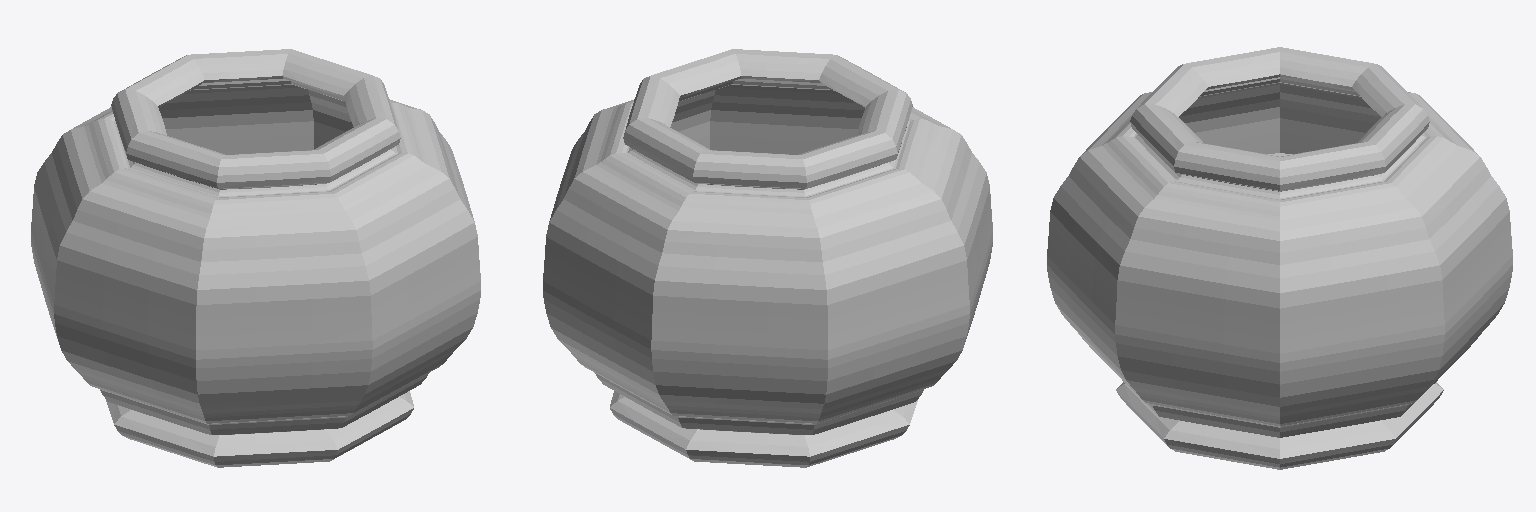
File: FishandbowlOBJSketchfab.obj
3 views of the same model, side by side, from view 1: azimuth 30°, elevation 25°; view 2: azimuth 150°, elevation 25°; view 3: azimuth 270°, elevation 25° (orthographic).
Parts seen in each view (by area): view 1: revolvedSurface1; view 2: revolvedSurface1; view 3: revolvedSurface1.
Part boxes in pixels (x1,y1,x2,y2): revolvedSurface1: (31,49,480,467); revolvedSurface1: (543,49,992,467); revolvedSurface1: (1047,47,1512,469).
Bounding box in the file's own units: 1225 × 880 × 1225.